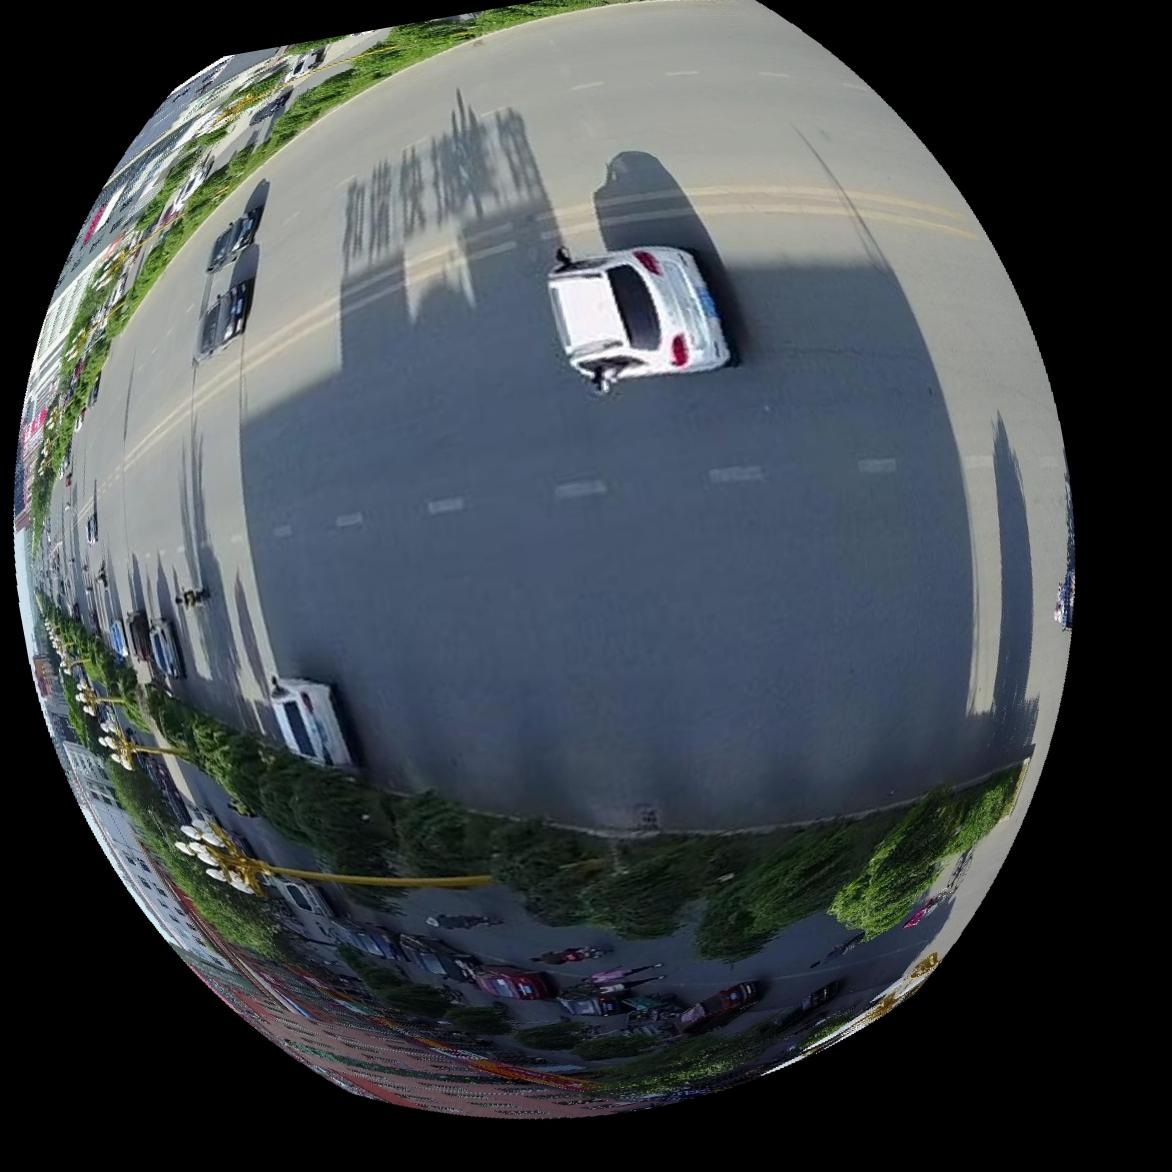cars: (547, 243, 735, 391), (270, 677, 353, 767), (193, 277, 251, 361), (205, 206, 260, 271), (148, 618, 183, 678), (125, 609, 151, 661), (107, 618, 127, 656), (84, 512, 97, 544)
trees: (143, 689, 1020, 963), (70, 0, 622, 397), (109, 763, 294, 962)
